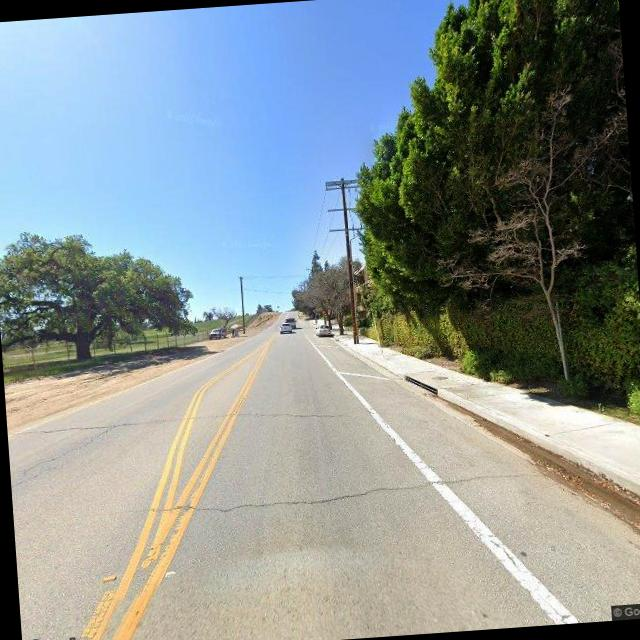crack: (132, 462, 528, 523), (103, 398, 362, 437), (8, 427, 116, 500)
